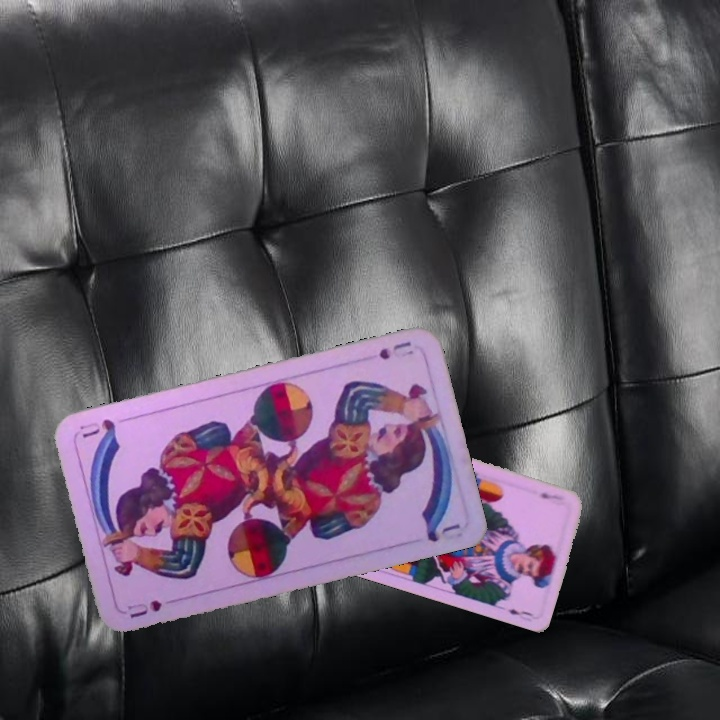EU: (537, 487, 567, 503)
SU: (122, 596, 165, 621), (374, 338, 416, 362)
